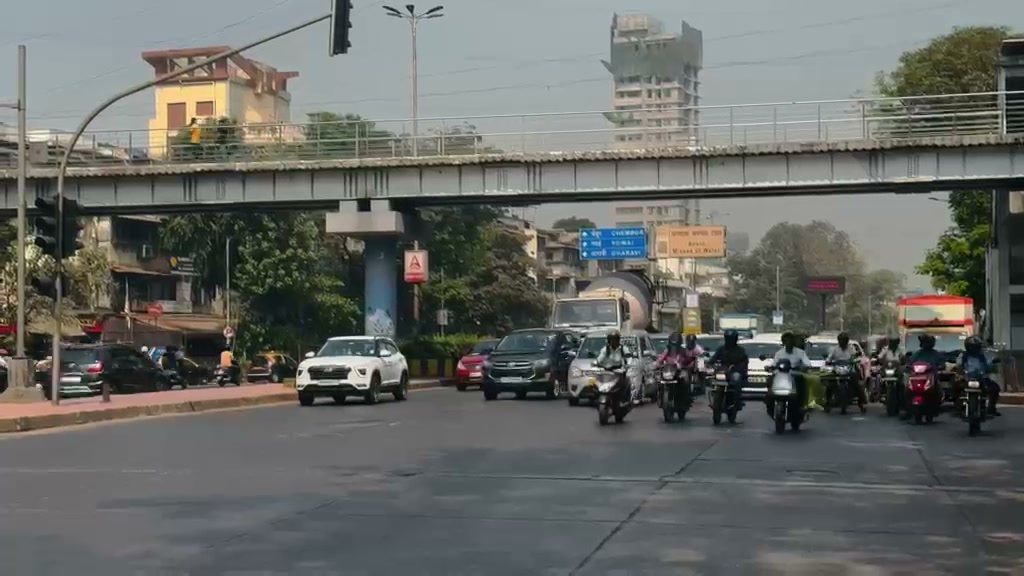car: (295, 335, 410, 406), (36, 343, 174, 398), (481, 330, 580, 401), (152, 347, 217, 389), (454, 339, 500, 391), (246, 351, 297, 382), (739, 341, 780, 370), (804, 333, 840, 362)
motorcycle: (953, 369, 1002, 436), (899, 360, 943, 425), (766, 366, 805, 434), (591, 366, 634, 426), (708, 371, 746, 426), (656, 365, 692, 423), (825, 369, 868, 415), (960, 374, 991, 436)
pedestrian: (766, 332, 811, 426), (823, 332, 871, 412), (590, 330, 632, 418), (707, 332, 749, 416), (960, 337, 1001, 410)
truck: (895, 294, 975, 362)
